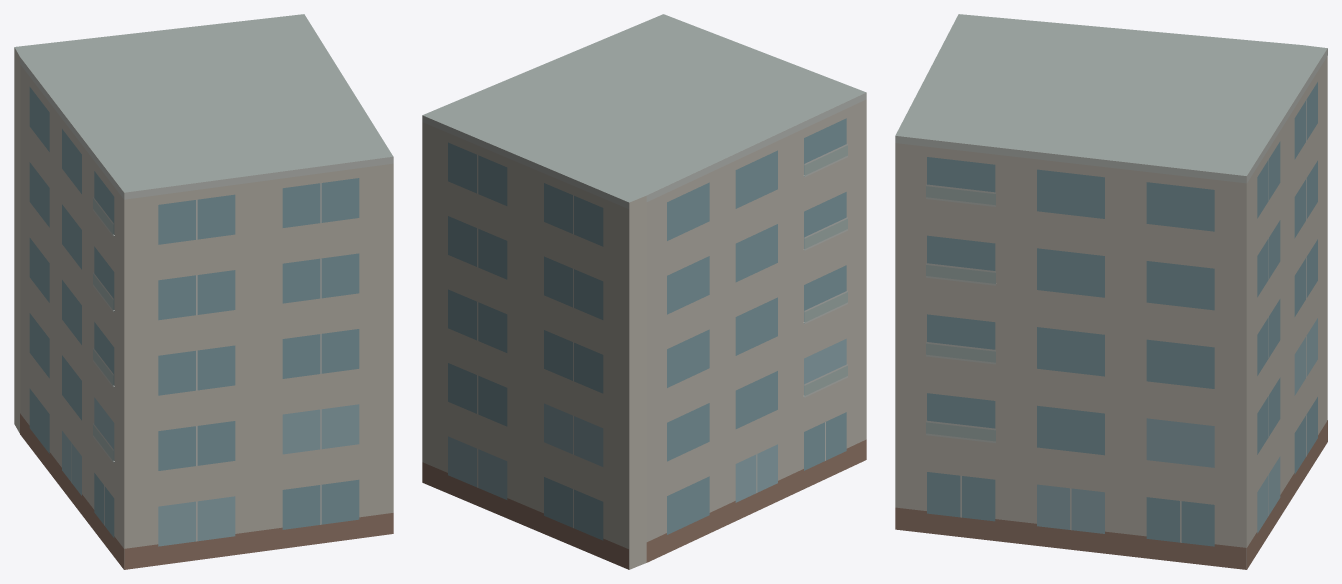
Rendered from survey-upis-32870201.glb.
3 views of the same model, side by side, from view 1: azimuth 30°, elevation 25°; view 2: azimuth 150°, elevation 25°; view 3: azimuth 270°, elevation 25° (orthographic). The views are drawn at different scales.
Visible parts, largest first — view 1: survey-upis-32870201.tmp; view 2: survey-upis-32870201.tmp; view 3: survey-upis-32870201.tmp.
Part boxes in pixels (bbox=[...]): survey-upis-32870201.tmp: bbox=[14, 14, 393, 569]; survey-upis-32870201.tmp: bbox=[422, 14, 866, 569]; survey-upis-32870201.tmp: bbox=[895, 14, 1327, 569].
Bounding box in the file's own units: 11.67 × 13.2 × 13.15.
